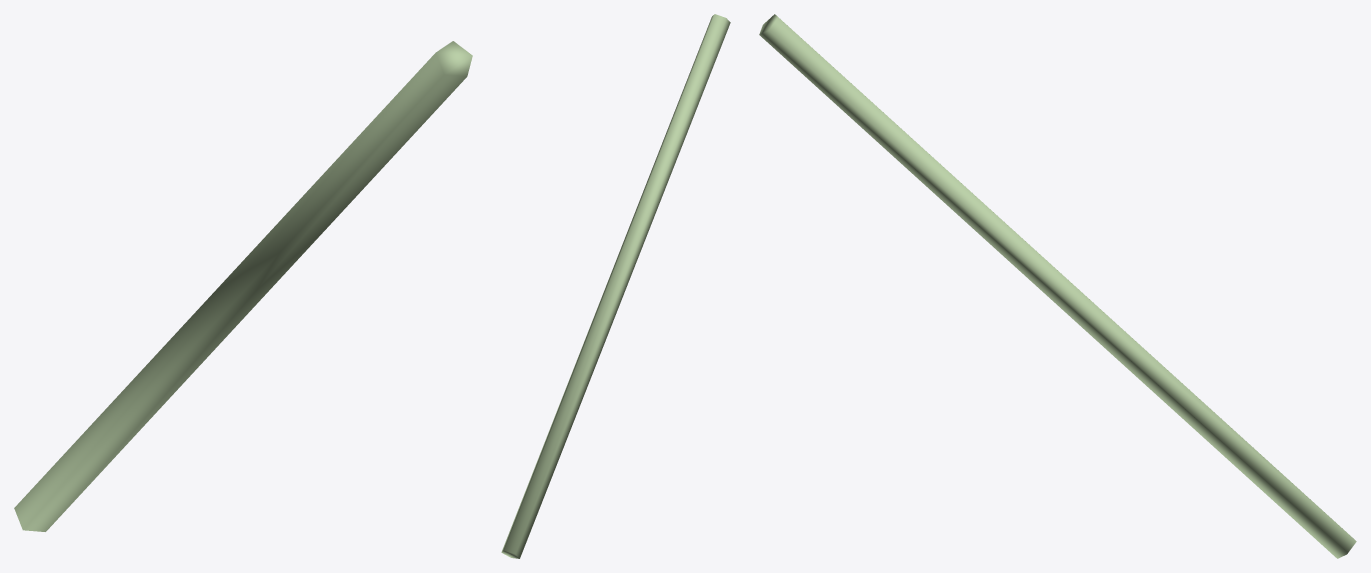
Rendered from original-22.obj.
3 renders of one model, left to right at view 1: azimuth 30°, elevation 25°; view 2: azimuth 150°, elevation 25°; view 3: azimuth 270°, elevation 25°, orthographic. The views are drawn at different scales.
Parts seen in each view (by area): view 1: mesh22/mesh22-geometry#mesh22-geometry; view 2: mesh22/mesh22-geometry#mesh22-geometry; view 3: mesh22/mesh22-geometry#mesh22-geometry.
Boxes of the visible parts, x1,y1,x2,y2 form: mesh22/mesh22-geometry#mesh22-geometry: (14, 41, 472, 531); mesh22/mesh22-geometry#mesh22-geometry: (501, 14, 730, 558); mesh22/mesh22-geometry#mesh22-geometry: (759, 14, 1356, 558).
Bounding box in the file's own units: 0.00107 × 0.0246 × 0.0246.
